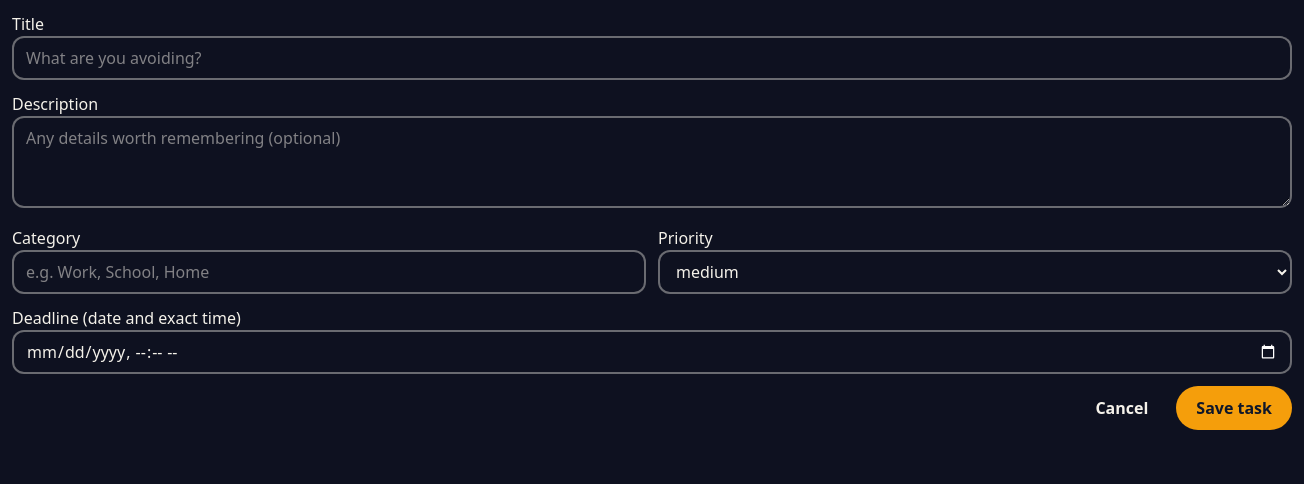
it: TaskForm › shows an error and does not save without a title
Click the button "Save task".
click(1234, 408)  # box [1176,386,1292,430]
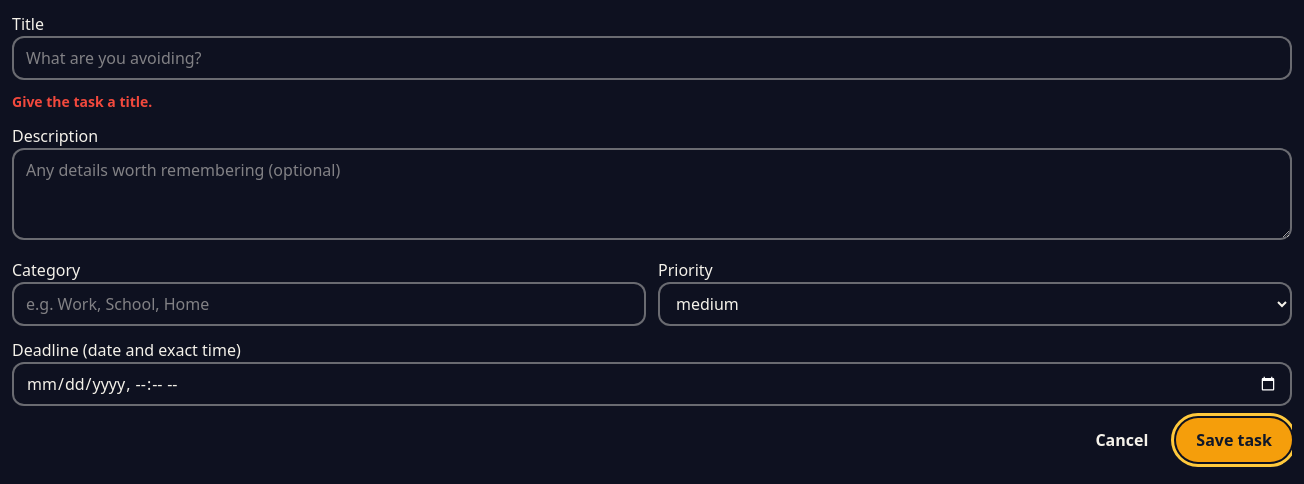
Check: the message shows "title", box [12,92,152,111]
